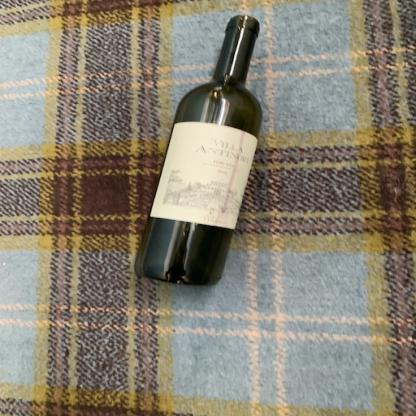trash: (132, 13, 266, 286)
